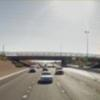cars: (39, 71, 54, 83)
